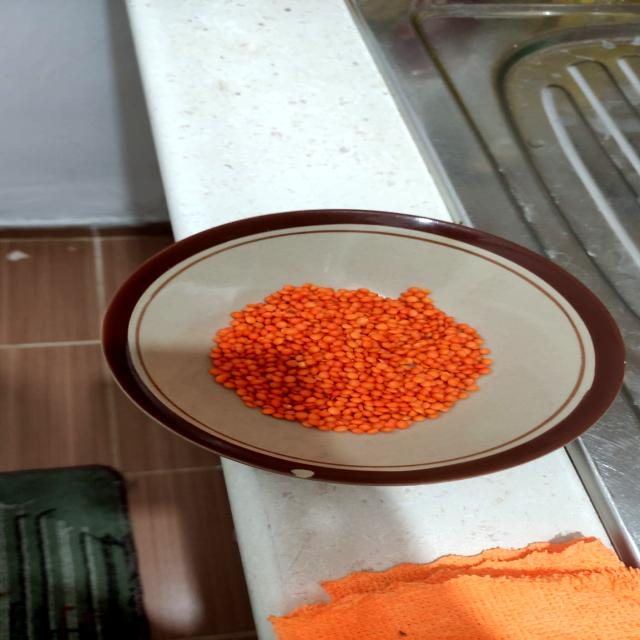red lentils: (109, 210, 614, 480)
